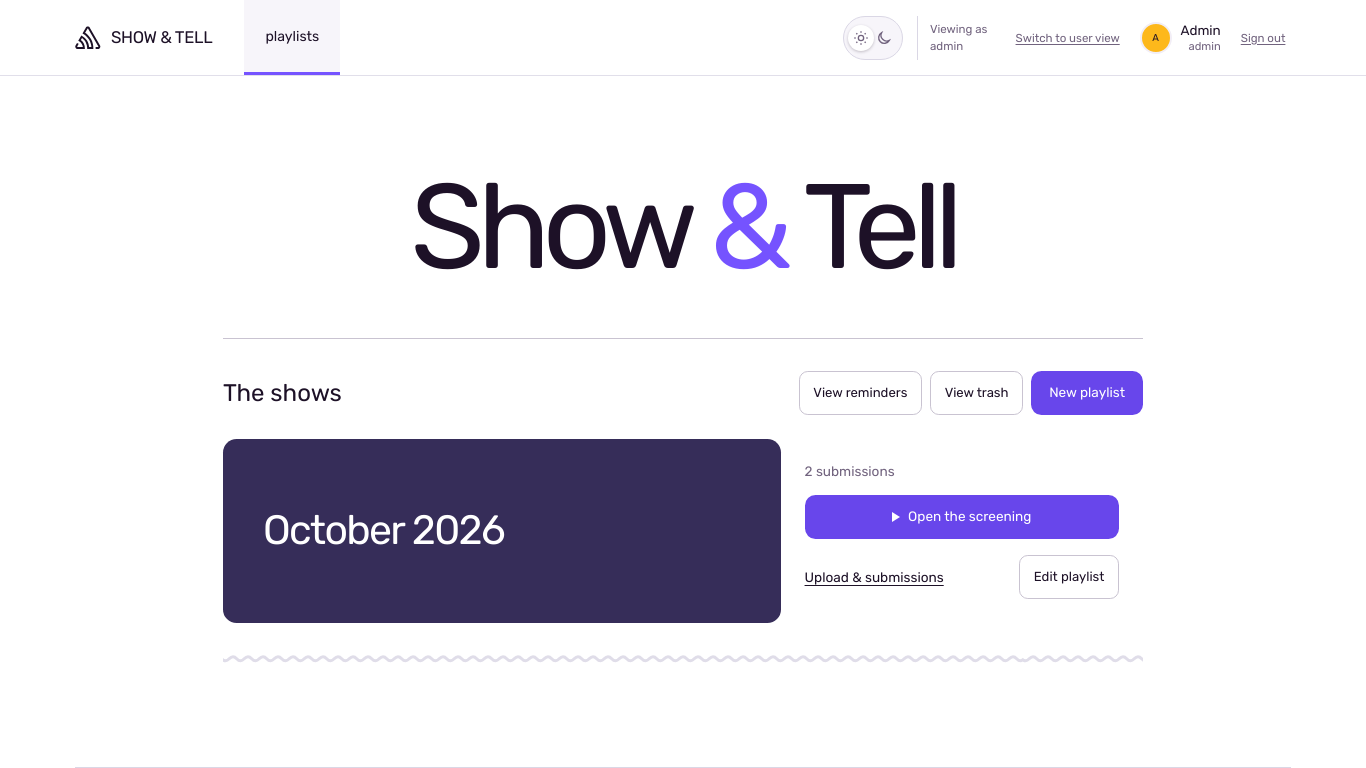
Test: App › labels the admin submission list and keeps ordering admin-only
Expected: the text "2 submissions" is shown, [805,463,895,479]
Click the link "Upload & submissions".
click(874, 577)  # box [805,569,944,585]
(page scrolled)
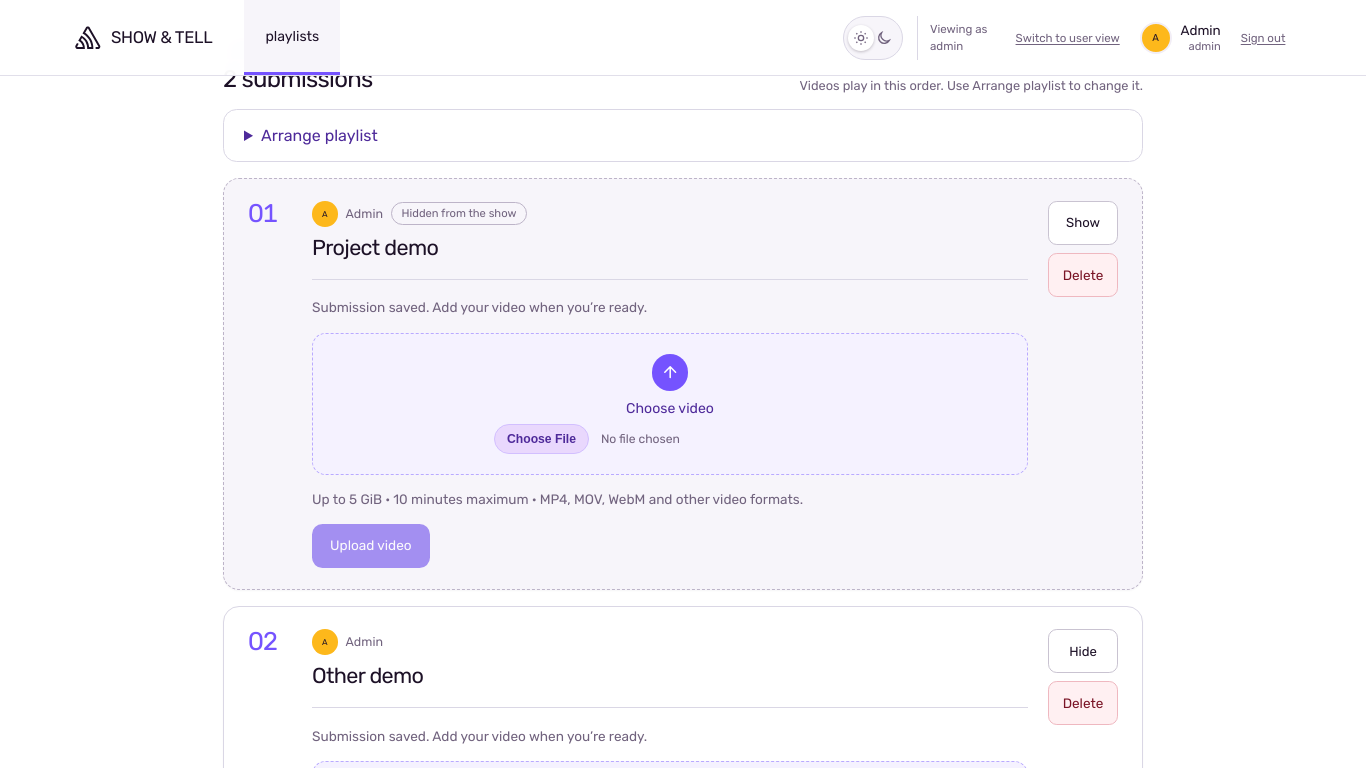
Expected: the text "Hidden from the show" is shown, [391,202,527,225]
Expected: the number of file fields labelled "Choose video" is 2
Expected: the number of buttons "Delete" is 2, [1048,253,1118,297]; [1048,681,1118,725]
